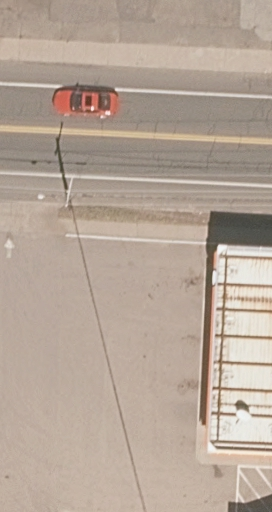DT: (37, 171, 76, 208)
